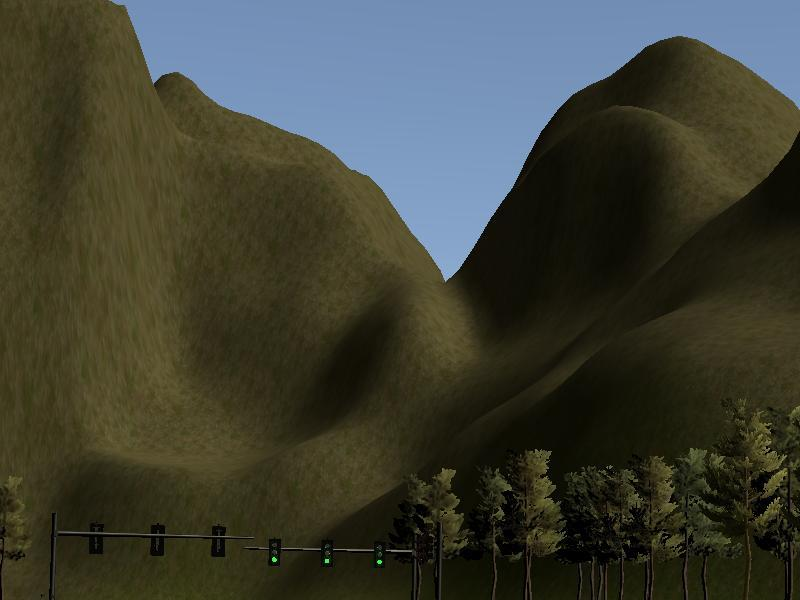Green: (373, 538, 386, 570), (321, 534, 333, 567), (268, 536, 280, 566)
